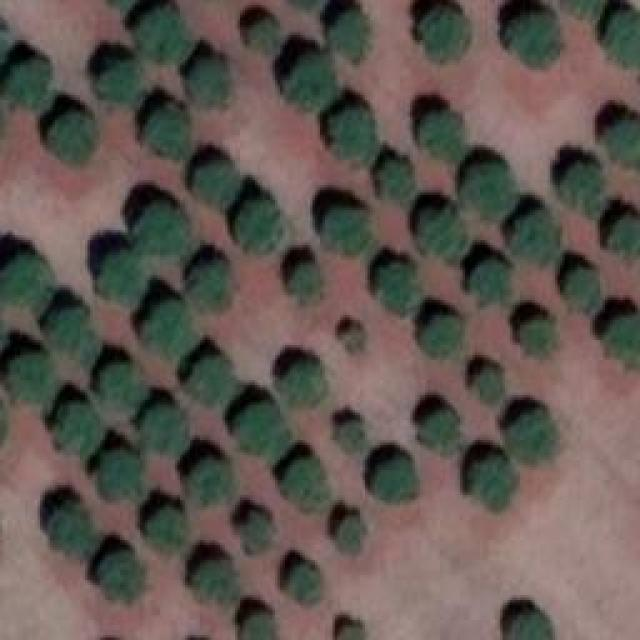Tree: (468, 158, 518, 221), (50, 105, 98, 170), (285, 52, 338, 110), (508, 407, 561, 465), (505, 13, 560, 68), (188, 558, 243, 611), (420, 5, 468, 65), (330, 105, 383, 158), (135, 205, 190, 255), (140, 8, 190, 63), (43, 498, 88, 558), (233, 403, 286, 453), (180, 460, 233, 510), (95, 550, 143, 605), (515, 205, 563, 260), (285, 453, 328, 513), (2, 250, 50, 303), (7, 345, 55, 398), (185, 357, 238, 405), (323, 205, 376, 253), (3, 55, 53, 105), (475, 450, 518, 508), (238, 203, 283, 256), (148, 298, 193, 351), (143, 405, 188, 458), (420, 205, 465, 258), (420, 110, 468, 158), (560, 163, 603, 216), (98, 253, 143, 303), (45, 302, 90, 350), (143, 105, 188, 153), (380, 260, 420, 313), (605, 5, 640, 65), (58, 405, 101, 453), (188, 55, 231, 103), (100, 448, 138, 501), (198, 158, 238, 208), (190, 260, 230, 310), (145, 505, 185, 555), (333, 10, 373, 60), (470, 255, 510, 305), (280, 360, 323, 403), (607, 315, 640, 370), (425, 313, 465, 358), (103, 363, 143, 406), (102, 58, 140, 103), (377, 455, 415, 500), (565, 267, 600, 315), (422, 403, 460, 446), (377, 158, 415, 201), (610, 210, 640, 263), (610, 120, 640, 173), (522, 318, 560, 358), (240, 508, 273, 548), (512, 607, 552, 640), (288, 260, 321, 298), (288, 565, 318, 605), (473, 368, 506, 403), (337, 417, 365, 455), (248, 18, 278, 51), (243, 612, 278, 640), (555, 0, 603, 20), (340, 518, 363, 553), (340, 622, 368, 640)
